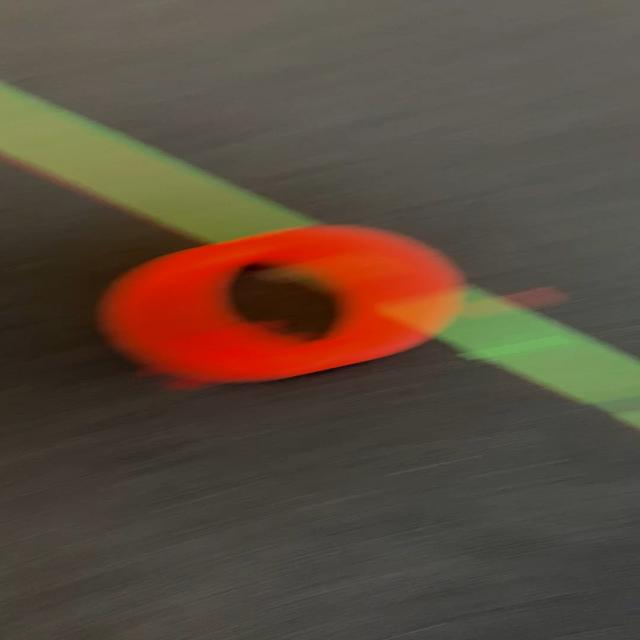notes: (103, 230, 454, 376)
